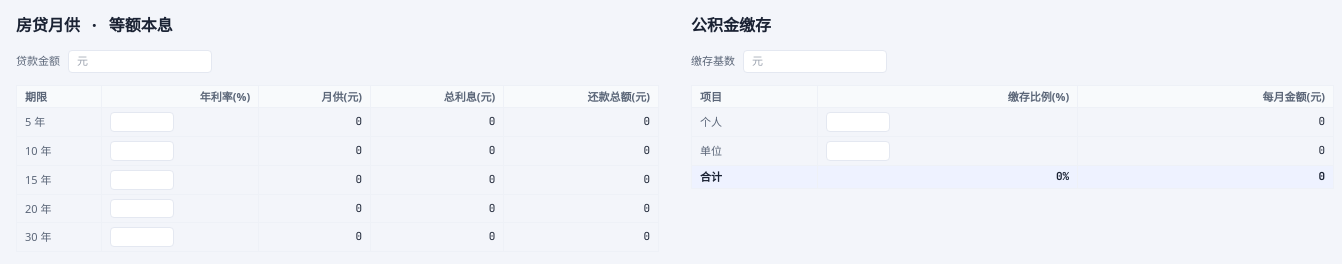
Test: CalculatorView › 改贷款金额 + 30年利率 → 月供/总利息/还款总额更新
Type "1000000" into the number field with test id "calc-loan-amount" at (140,61), box [68,50,212,72]
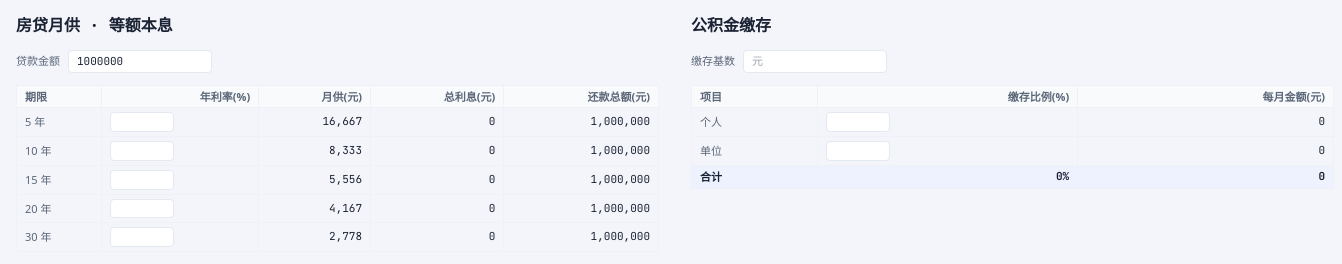
Type "3.5" into the number field with test id "calc-rate-30" at (142,237), box [110,227,174,247]
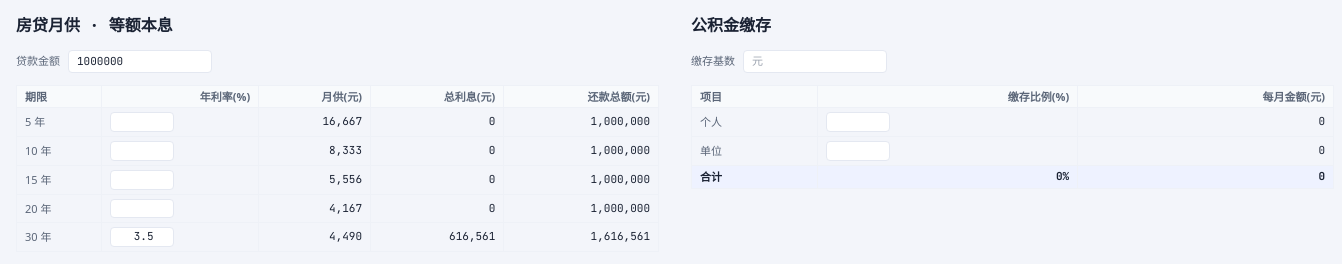
Result: the cell with test id "calc-mort-30-payment" reads "4,490" at [329,229,362,243]
Result: the cell with test id "calc-mort-30-interest" reads "616,561" at [449,229,495,243]
